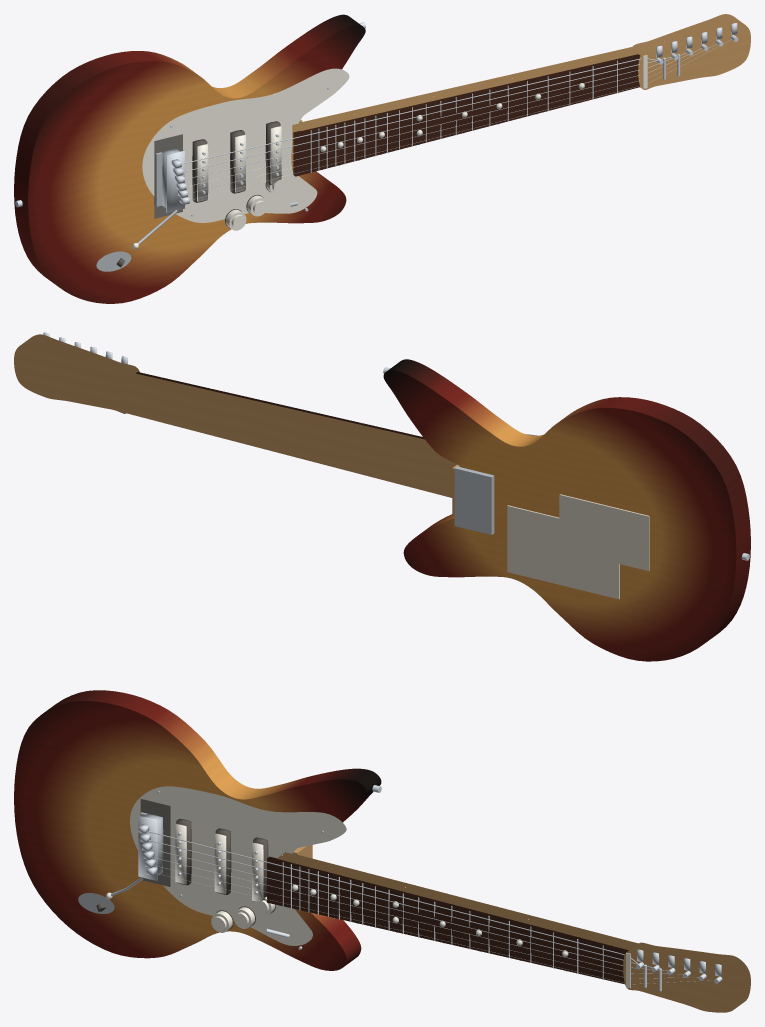
Rendered from ElectricGuitar.glb.
3 views of the same model, one above another, from view 1: azimuth 30°, elevation 25°; view 2: azimuth 150°, elevation 25°; view 3: azimuth 330°, elevation 25° (orthographic). The views are drawn at different scales.
Visible parts, largest first — view 1: Body_Mesh, Fretboard, Pickguard, Headstock_Mesh, Neck_Mesh, Bridge_Plate, String_1_LowE, Bridge_ContactShadow, String_2_A, Pickup_Bridge_Cover, Pickup_Neck_Cover, Pickup_Middle_Cover (+4 smaller); view 2: Body_Mesh, Neck_Mesh, RearCover_Electronics, Headstock_Mesh, RearCover_Tremolo, NeckPlate, Fretboard; view 3: Body_Mesh, Fretboard, Pickguard, Headstock_Mesh, Neck_Mesh, Bridge_ContactShadow, String_1_LowE, Bridge_Plate, Pickup_Middle_Cover, String_2_A, Pickup_Bridge_Cover, Pickup_Neck_Cover (+1 smaller).
Boxes of the visible parts, x1,y1,x2,y2 form: Body_Mesh: (14,14,365,303); Fretboard: (293,54,640,176); Pickguard: (142,68,349,222); Headstock_Mesh: (631,14,750,89); Neck_Mesh: (291,47,637,167); Bridge_Plate: (166,150,184,212); String_1_LowE: (182,58,657,163); Bridge_ContactShadow: (154,134,182,218); String_2_A: (183,56,671,172); Pickup_Bridge_Cover: (197,144,208,201); Pickup_Neck_Cover: (270,126,281,183); Pickup_Middle_Cover: (234,135,245,192); Body_Mesh: (383,359,750,661); Neck_Mesh: (123,373,456,497); RearCover_Electronics: (507,505,619,599); Headstock_Mesh: (14,334,139,413); RearCover_Tremolo: (559,494,649,570); NeckPlate: (454,466,494,534); Fretboard: (136,372,424,439); Body_Mesh: (14,690,381,970); Fretboard: (267,856,628,984); Pickguard: (130,786,346,945); Headstock_Mesh: (623,942,750,1012); Neck_Mesh: (277,852,638,950); Bridge_ContactShadow: (140,799,170,886); String_1_LowE: (146,830,638,963); Bridge_Plate: (138,816,157,880); Pickup_Middle_Cover: (214,833,226,893); String_2_A: (147,839,652,967); Pickup_Bridge_Cover: (175,823,186,884); Pickup_Neck_Cover: (252,842,263,901).
Size of the model in its own units: 1 by 0.3196 by 0.088.
Materials: 16 (3 with a texture image).
